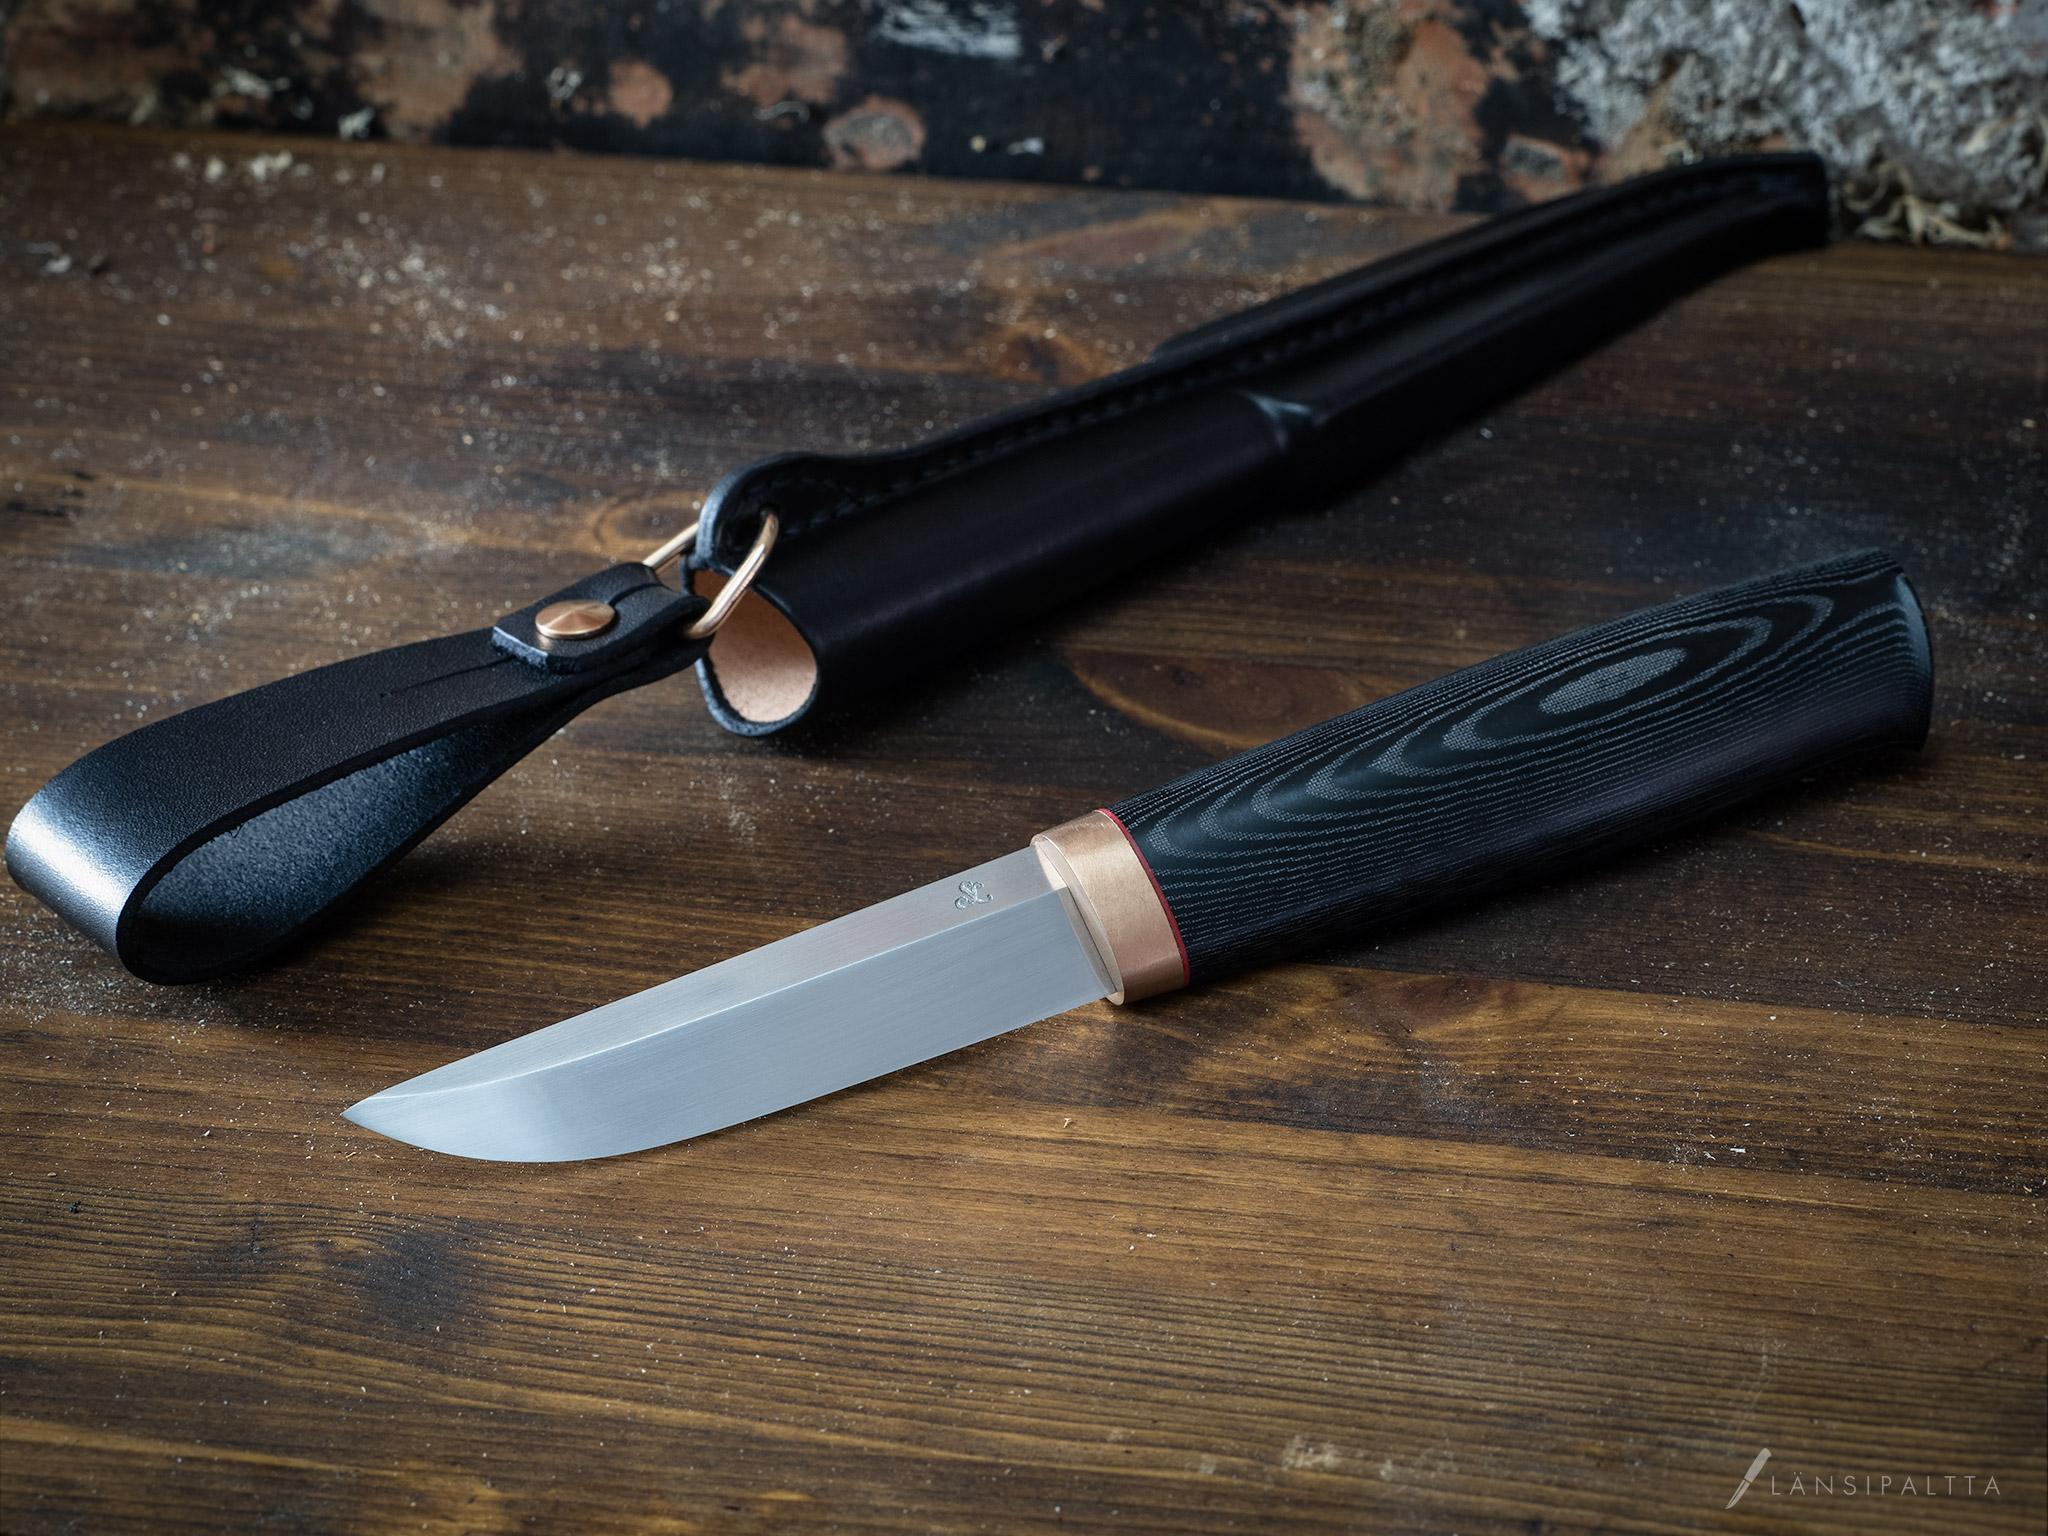knife: (321, 534, 1959, 1184)
